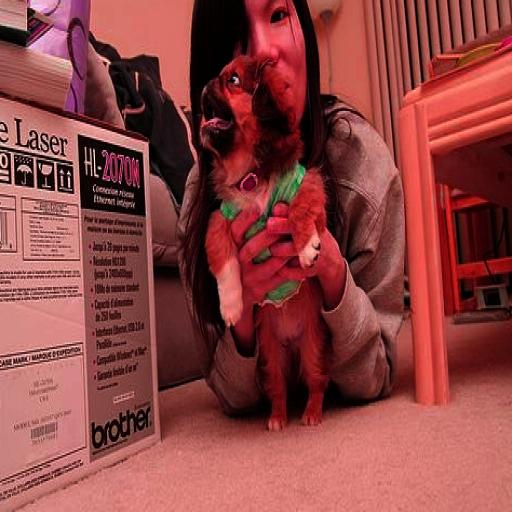dog_face: (196, 66, 291, 161)
